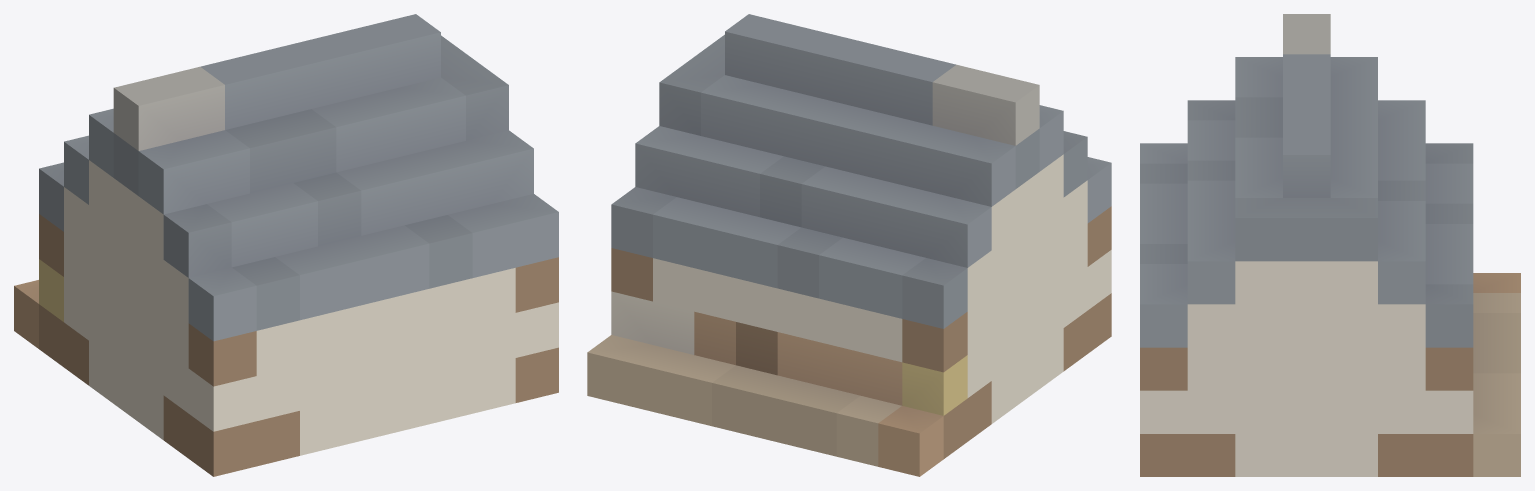
The model's file is optician.lite.glb.
3 renders of one model, left to right at view 1: azimuth 30°, elevation 25°; view 2: azimuth 150°, elevation 25°; view 3: azimuth 270°, elevation 25°, orthographic. The views are drawn at different scales.
Visible parts, largest first — view 1: optician; view 2: optician; view 3: optician.
Part boxes in pixels (x1=…): optician: x1=14, y1=14, x2=558, y2=476; optician: x1=587, y1=14, x2=1111, y2=476; optician: x1=1140, y1=14, x2=1520, y2=476.
Bounding box in the file's own units: 4 × 3.5 × 4.
